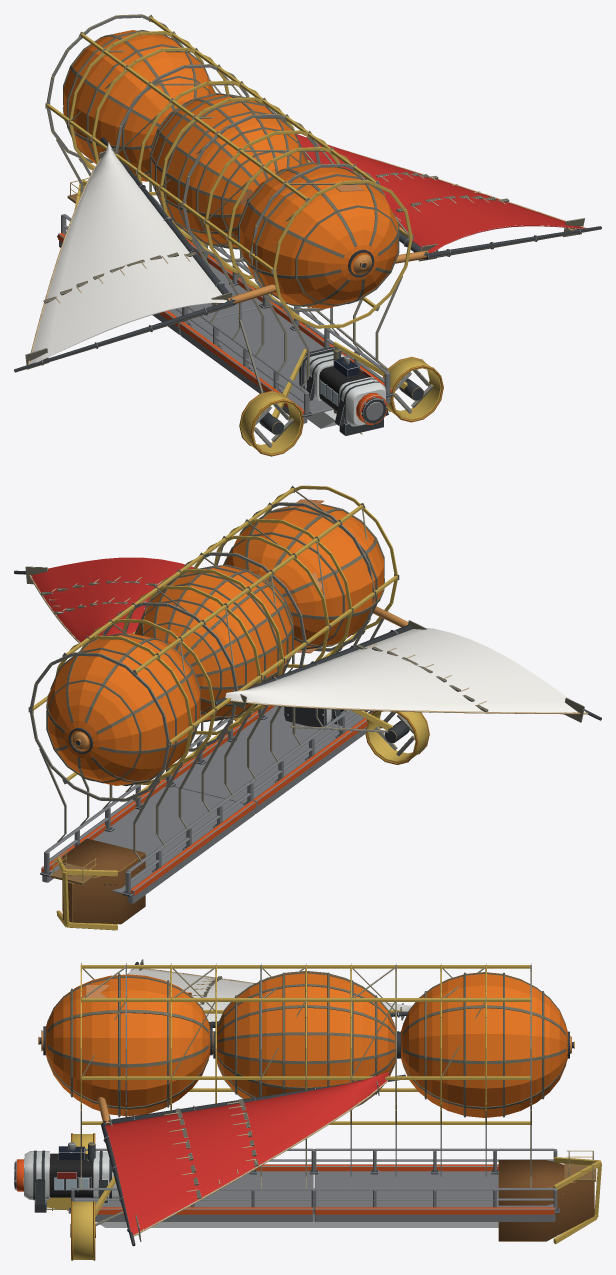
Rendered from sky_freighter.fbx.
3 views of the same model, one above another, from view 1: azimuth 30°, elevation 25°; view 2: azimuth 150°, elevation 25°; view 3: azimuth 270°, elevation 25° (orthographic).
Visible parts, largest first — view 1: Mesh_SkyCity_SailStbd_LateenSail_Main.005, Mesh_SkyCity_Bag1_GasEnvelope_Patched.001, Mesh_SkyCity_Cage.001, Mesh_SkyCity_Bag2_GasEnvelope_Banded.004, Mesh_SkyCity_Bag3_GasEnvelope_Plain.001, Mesh_SkyCity_SailPort_LateenSail_PatchedPort.004, Mesh_SkyCity_Under02_Catwalk_Straight.004, Mesh_SkyCity_SternGear.002, Mesh_SkyCity_Home17_HabCapsule_Short.003, Mesh_SkyCity_Under02_Catwalk_Straight.003; view 2: Mesh_SkyCity_SailStbd_LateenSail_Main.005, Mesh_SkyCity_Cage.001, Mesh_SkyCity_Bag3_GasEnvelope_Plain.001, Mesh_SkyCity_Bag1_GasEnvelope_Patched.001, Mesh_SkyCity_Bag2_GasEnvelope_Banded.004, Mesh_SkyCity_Under02_Catwalk_Straight.003, Mesh_SkyCity_Under02_Catwalk_Straight.004, Mesh_SkyCity_SailPort_LateenSail_PatchedPort.004, Mesh_SkyCity_Prow.002, Mesh_SkyCity_SternGear.002, Mesh_SkyCity_Home17_HabCapsule_Short.003; view 3: Mesh_SkyCity_SailPort_LateenSail_PatchedPort.004, Mesh_SkyCity_Bag3_GasEnvelope_Plain.001, Mesh_SkyCity_Bag1_GasEnvelope_Patched.001, Mesh_SkyCity_Bag2_GasEnvelope_Banded.004, Mesh_SkyCity_Under02_Catwalk_Straight.003, Mesh_SkyCity_Cage.001, Mesh_SkyCity_Under02_Catwalk_Straight.004, Mesh_SkyCity_Prow.002, Mesh_SkyCity_Home17_HabCapsule_Short.003, Mesh_SkyCity_SternGear.002, Mesh_SkyCity_SailStbd_LateenSail_Main.005, Cube.
Boxes of the visible parts, x1=… form: Mesh_SkyCity_SailStbd_LateenSail_Main.005: x1=14, y1=137, x2=276, y2=372; Mesh_SkyCity_Bag1_GasEnvelope_Patched.001: x1=238, y1=162, x2=399, y2=308; Mesh_SkyCity_Cage.001: x1=45, y1=14, x2=413, y2=389; Mesh_SkyCity_Bag2_GasEnvelope_Banded.004: x1=150, y1=93, x2=308, y2=249; Mesh_SkyCity_Bag3_GasEnvelope_Plain.001: x1=62, y1=30, x2=215, y2=181; Mesh_SkyCity_SailPort_LateenSail_PatchedPort.004: x1=296, y1=134, x2=601, y2=263; Mesh_SkyCity_Under02_Catwalk_Straight.004: x1=179, y1=297, x2=394, y2=423; Mesh_SkyCity_SternGear.002: x1=238, y1=307, x2=443, y2=456; Mesh_SkyCity_Home17_HabCapsule_Short.003: x1=299, y1=347, x2=388, y2=435; Mesh_SkyCity_Under02_Catwalk_Straight.003: x1=57, y1=203, x2=269, y2=334; Mesh_SkyCity_SailStbd_LateenSail_Main.005: x1=214, y1=606, x2=601, y2=722; Mesh_SkyCity_Cage.001: x1=28, y1=485, x2=399, y2=862; Mesh_SkyCity_Bag3_GasEnvelope_Plain.001: x1=46, y1=633, x2=200, y2=785; Mesh_SkyCity_Bag1_GasEnvelope_Patched.001: x1=223, y1=499, x2=384, y2=653; Mesh_SkyCity_Bag2_GasEnvelope_Banded.004: x1=134, y1=564, x2=293, y2=722; Mesh_SkyCity_Under02_Catwalk_Straight.003: x1=40, y1=768, x2=255, y2=903; Mesh_SkyCity_Under02_Catwalk_Straight.004: x1=164, y1=705, x2=373, y2=813; Mesh_SkyCity_SailPort_LateenSail_PatchedPort.004: x1=14, y1=557, x2=197, y2=646; Mesh_SkyCity_Prow.002: x1=50, y1=838, x2=145, y2=930; Mesh_SkyCity_SternGear.002: x1=234, y1=705, x2=429, y2=764; Mesh_SkyCity_Home17_HabCapsule_Short.003: x1=284, y1=706, x2=368, y2=727; Mesh_SkyCity_SailPort_LateenSail_PatchedPort.004: x1=97, y1=1072, x2=405, y2=1246; Mesh_SkyCity_Bag3_GasEnvelope_Plain.001: x1=399, y1=972, x2=574, y2=1117; Mesh_SkyCity_Bag1_GasEnvelope_Patched.001: x1=38, y1=973, x2=213, y2=1117; Mesh_SkyCity_Bag2_GasEnvelope_Banded.004: x1=212, y1=971, x2=398, y2=1109; Mesh_SkyCity_Under02_Catwalk_Straight.003: x1=311, y1=1148, x2=559, y2=1221; Mesh_SkyCity_Cage.001: x1=80, y1=963, x2=531, y2=1189; Mesh_SkyCity_Under02_Catwalk_Straight.004: x1=68, y1=1148, x2=316, y2=1221; Mesh_SkyCity_Prow.002: x1=498, y1=1150, x2=601, y2=1244; Mesh_SkyCity_Home17_HabCapsule_Short.003: x1=14, y1=1142, x2=119, y2=1212; Mesh_SkyCity_SternGear.002: x1=46, y1=1133, x2=123, y2=1260; Mesh_SkyCity_SailStbd_LateenSail_Main.005: x1=127, y1=959, x2=411, y2=1027; Cube: x1=96, y1=1213, x2=498, y2=1227.
Size of the model in its own units: 3590 by 1518 by 3145.
